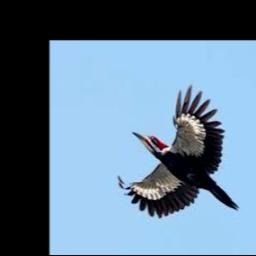Woodpecker: (118, 84, 239, 217)
